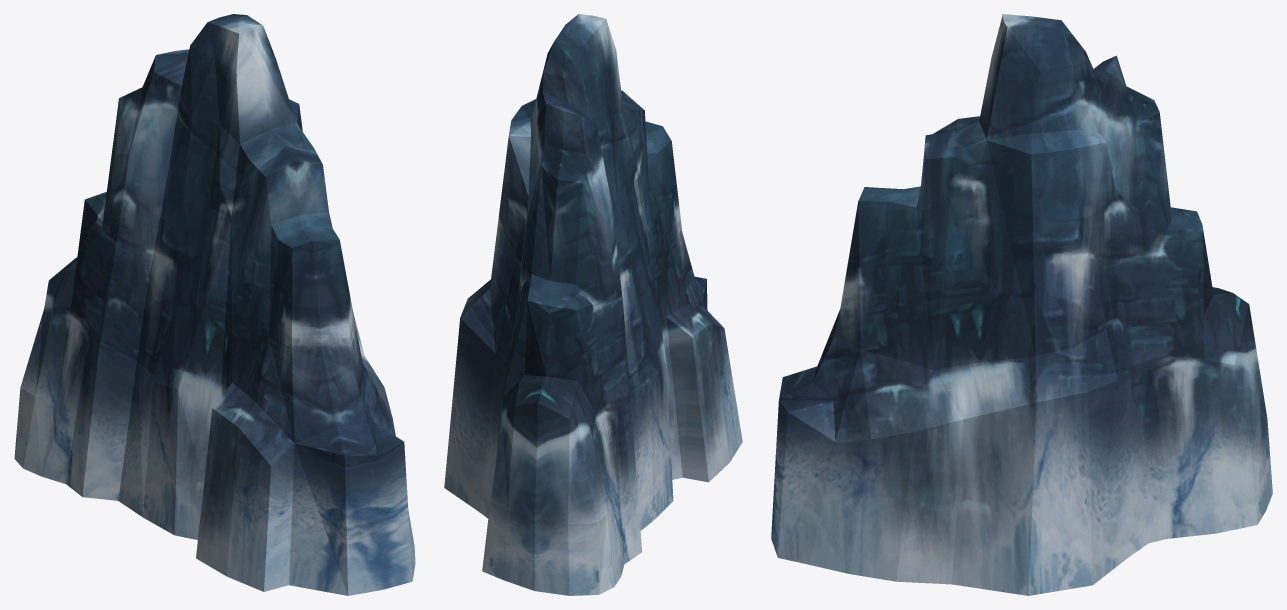
File: Ice_stone07.FBX
3 views of the same model, side by side, from view 1: azimuth 30°, elevation 25°; view 2: azimuth 150°, elevation 25°; view 3: azimuth 270°, elevation 25° (orthographic). The views are drawn at different scales.
Parts seen in each view (by area): view 1: Object15627; view 2: Object15627; view 3: Object15627.
Part boxes in pixels (x1=…): Object15627: x1=14, y1=14, x2=415, y2=595; Object15627: x1=444, y1=14, x2=742, y2=595; Object15627: x1=771, y1=14, x2=1272, y2=595.
Size of the model in its own units: 350 by 632 by 563.
